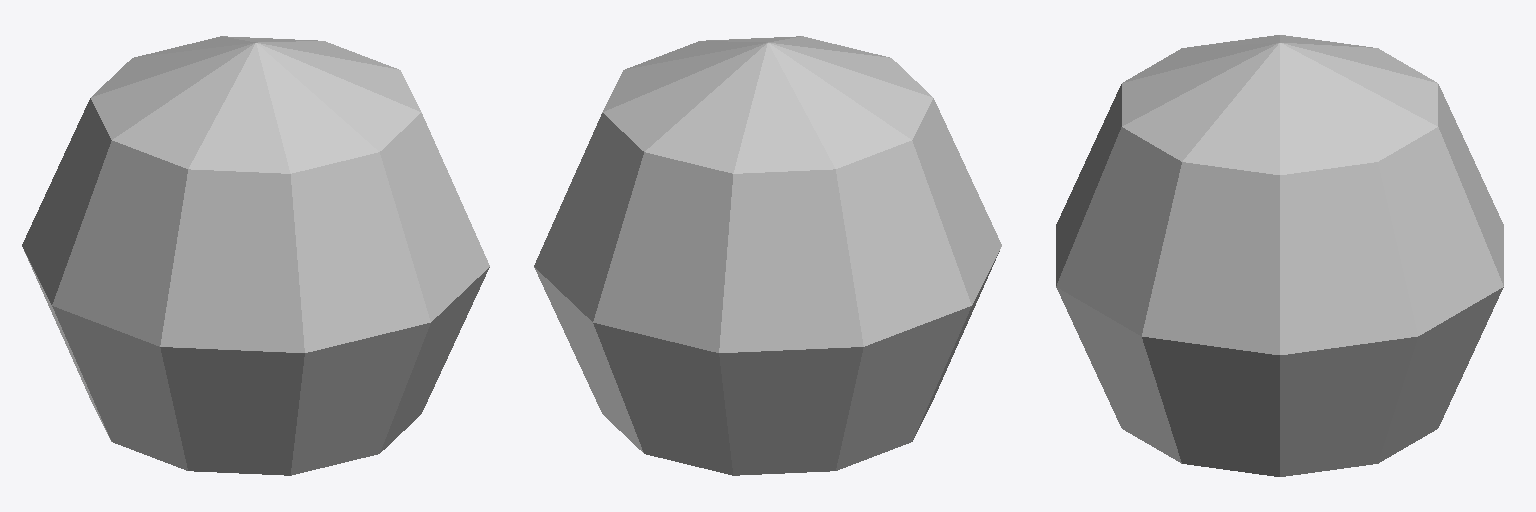
Rendered from FlakAmmo.obj.
The picture shows the model from 3 angles: view 1: azimuth 30°, elevation 25°; view 2: azimuth 150°, elevation 25°; view 3: azimuth 270°, elevation 25°; orthographic projection.
Visible parts, largest first — view 1: Sphere; view 2: Sphere; view 3: Sphere.
Part boxes in pixels (x1,y1,x2,y2): Sphere: (22, 36, 489, 475); Sphere: (534, 36, 1001, 475); Sphere: (1056, 35, 1503, 476).
Size of the model in its own units: 0.15 by 0.15 by 0.1427.